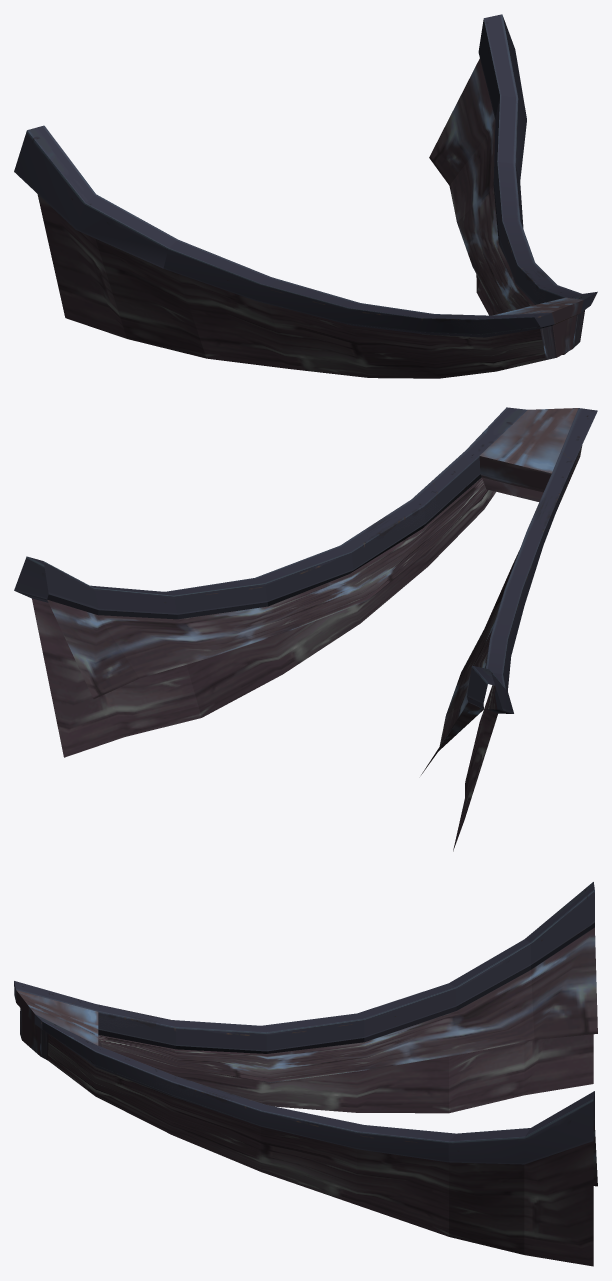
Rendered from yw_bingyuan_chuantou_002.FBX.
The picture shows the model from 3 angles, top to bottom: view 1: azimuth 30°, elevation 25°; view 2: azimuth 150°, elevation 25°; view 3: azimuth 270°, elevation 25°; orthographic projection. The views are drawn at different scales.
Visible parts, largest first — view 1: yw_bingyuan_chuantou_002; view 2: yw_bingyuan_chuantou_002; view 3: yw_bingyuan_chuantou_002.
Boxes of the visible parts, box(x1,y1,x2,y2) form: yw_bingyuan_chuantou_002: box(14, 14, 597, 378); yw_bingyuan_chuantou_002: box(14, 407, 597, 851); yw_bingyuan_chuantou_002: box(14, 882, 597, 1266).
Bounding box in the file's own units: 1063 × 1142 × 399.
